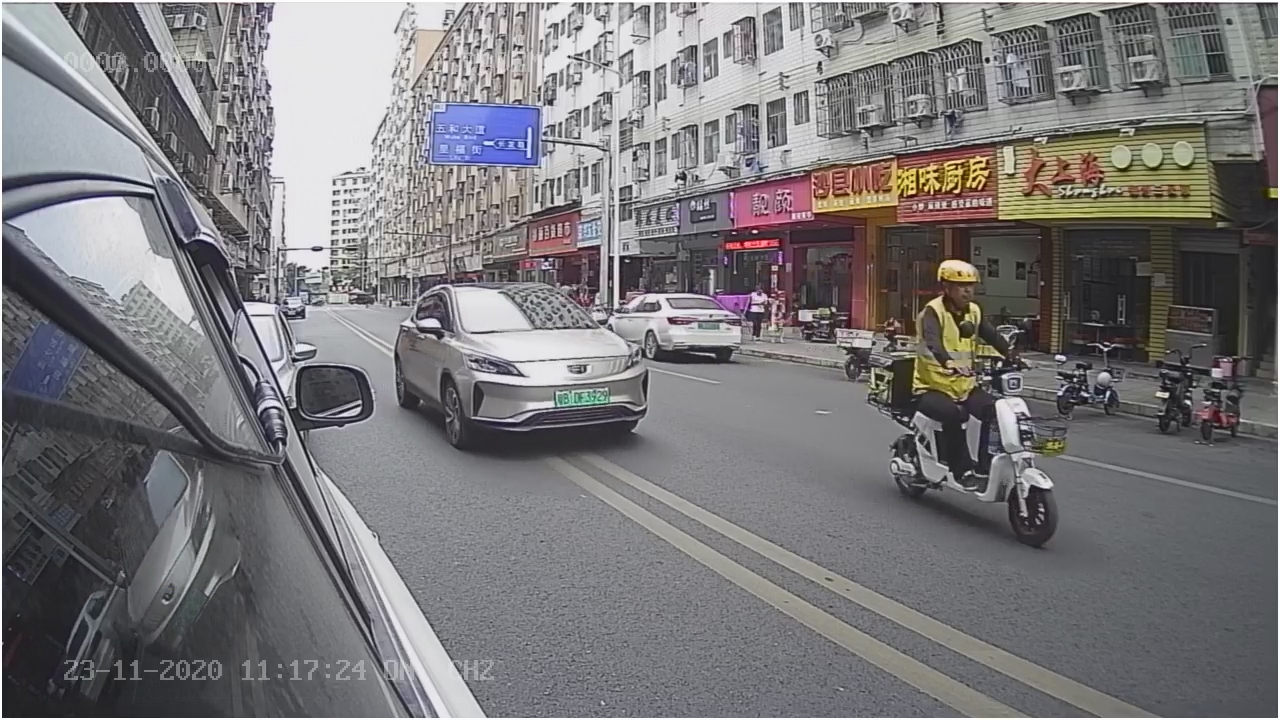person: (905, 255, 1020, 376)
